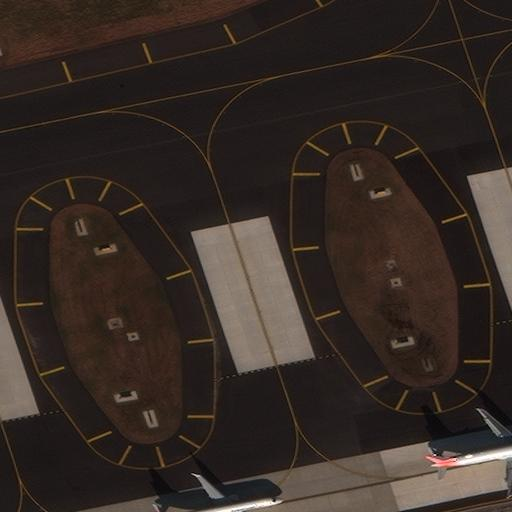Medium Civil Transport: (425, 409, 511, 492), (154, 474, 282, 512)
